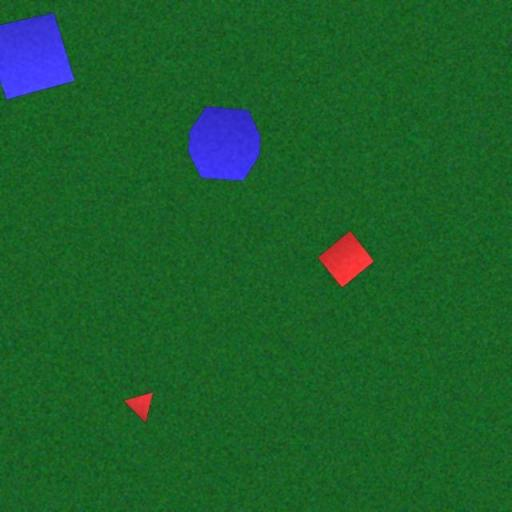BLUE_SQUARE: (0, 12, 75, 101)
RED_SQUARE: (317, 230, 375, 288)
